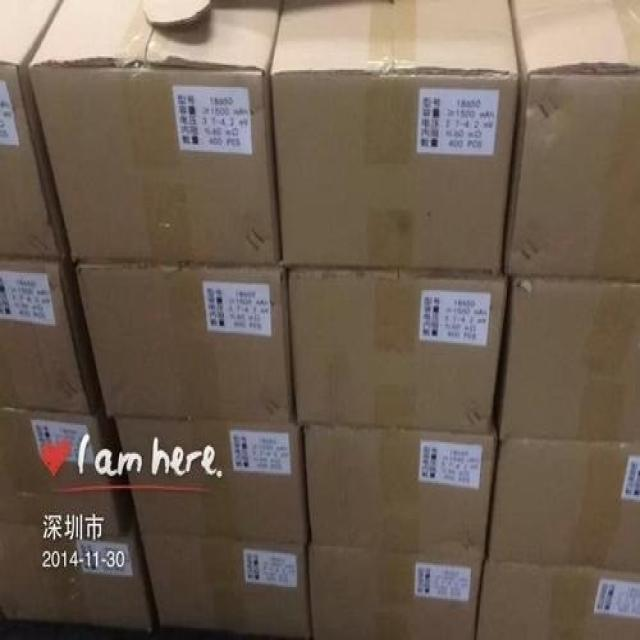Carton: (488, 70, 639, 580), (22, 2, 283, 263), (269, 0, 515, 268), (72, 265, 305, 543), (291, 276, 503, 433), (302, 428, 495, 561)
